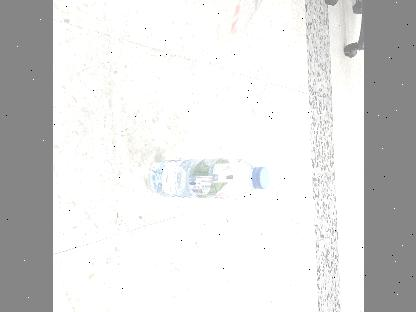Plastic Bottle: (146, 158, 268, 200), (188, 0, 294, 42)
